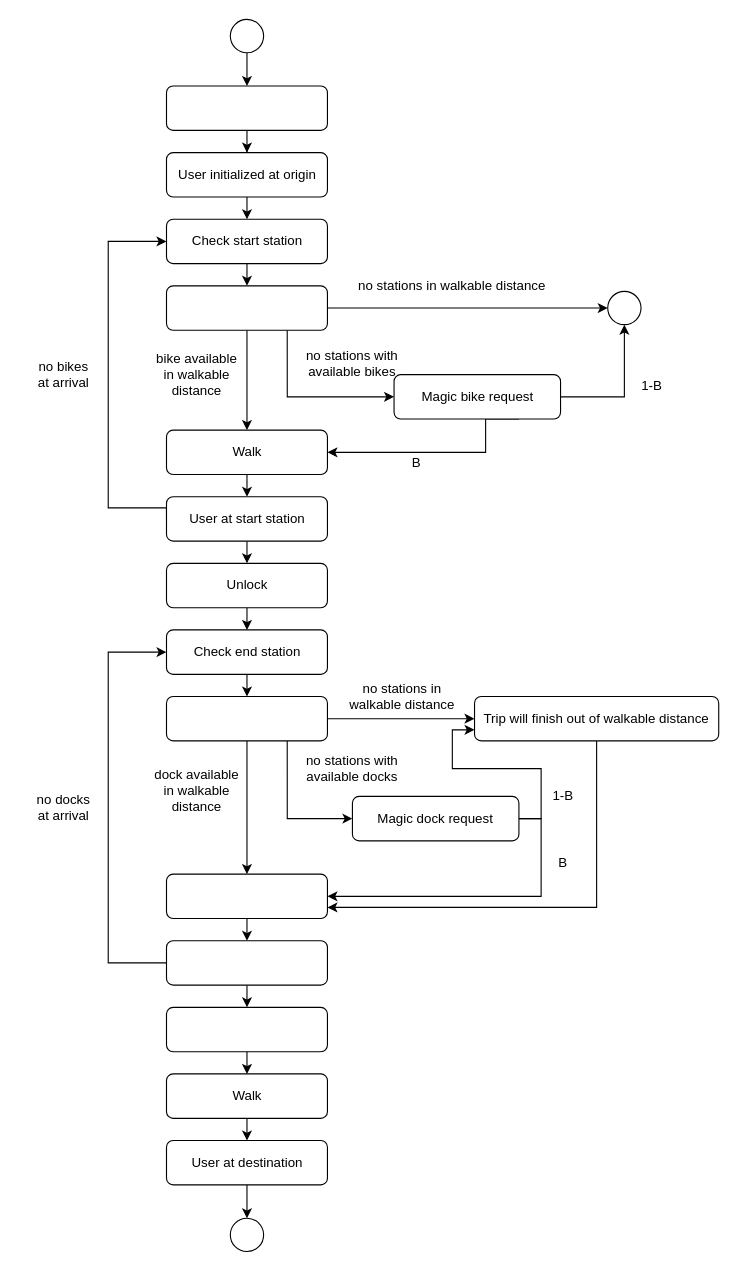
Image size: 738x1271. Some labels were removed from this diagram. Here are the shapes that lost their labels. From the top down, the centre of each, then its label:
At pixel 246 107: "Wait until departure time".
At pixel 246 307: "Select start station".
At pixel 246 718: "Select end station".
At pixel 246 896: "Ride".
At pixel 246 962: "User at end station".
At pixel 246 1029: "Lock".
